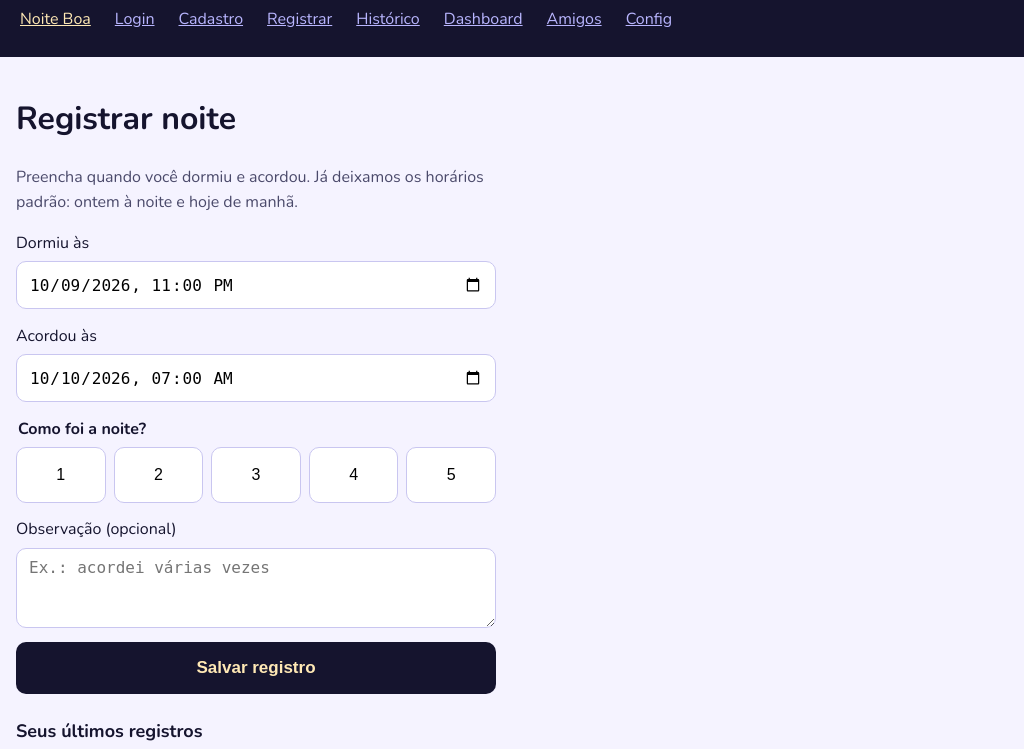
Test: tela de Registrar sono › salva o registro e mostra nos últimos registros
Replace the text in the field labelled "Dormiu às" with "2026-10-07T23:00": [256, 286] box 16,262 -> 496,310
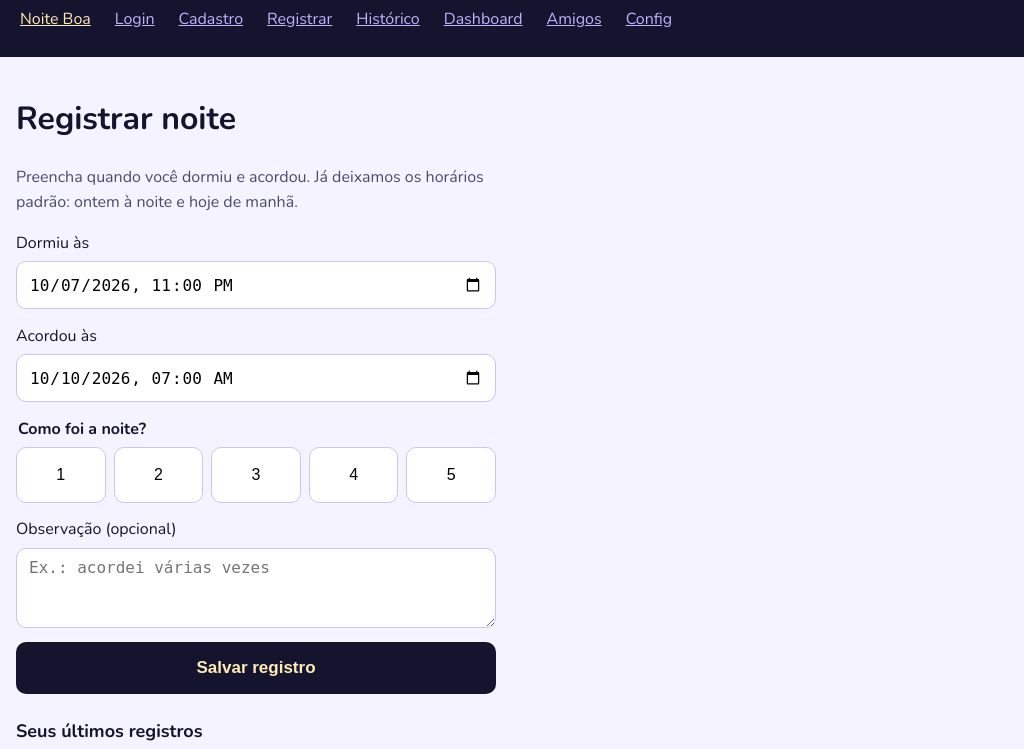
Replace the text in the field labelled "Acordou às" with "2026-10-08T07:00": [256, 378] box 16,354 -> 496,402
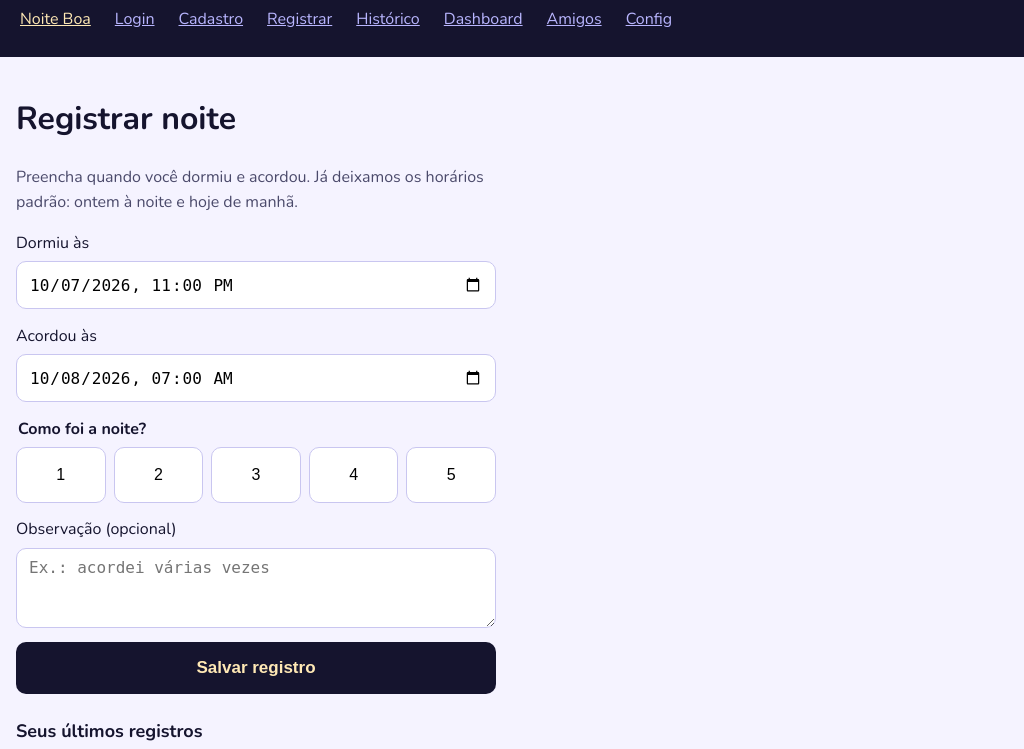
Click the button titled "4 Boa": [354, 475] box 309,447 -> 398,503
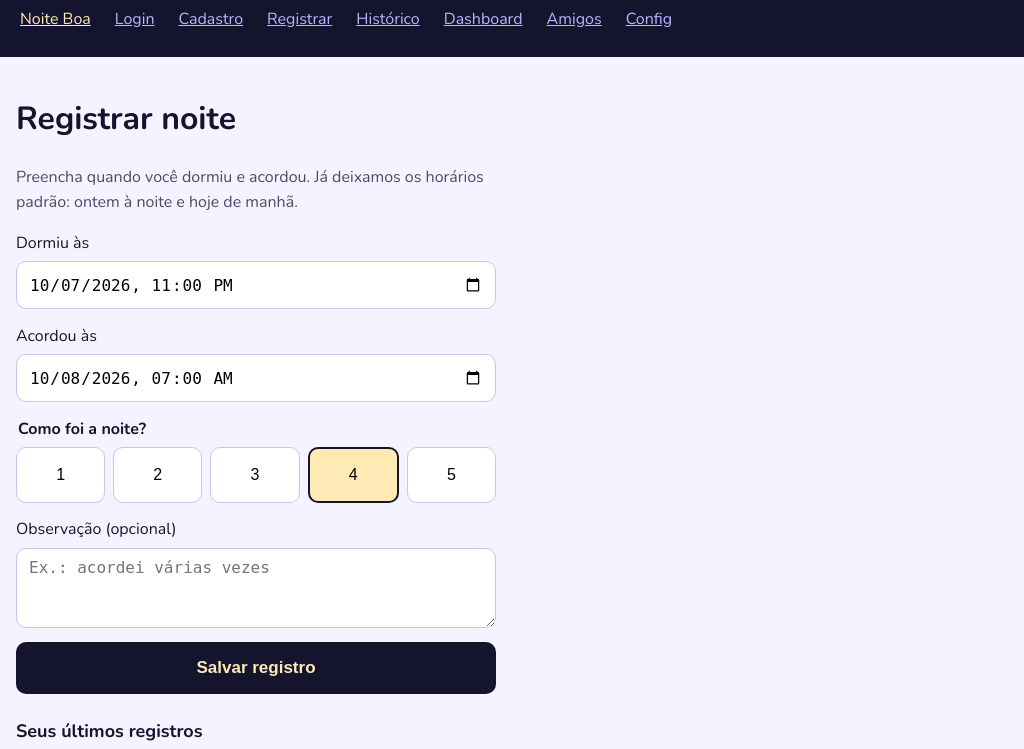
In the text box labelled "Observação (opcional)": [256, 588] box 16,548 -> 496,628, type "dormi bem"
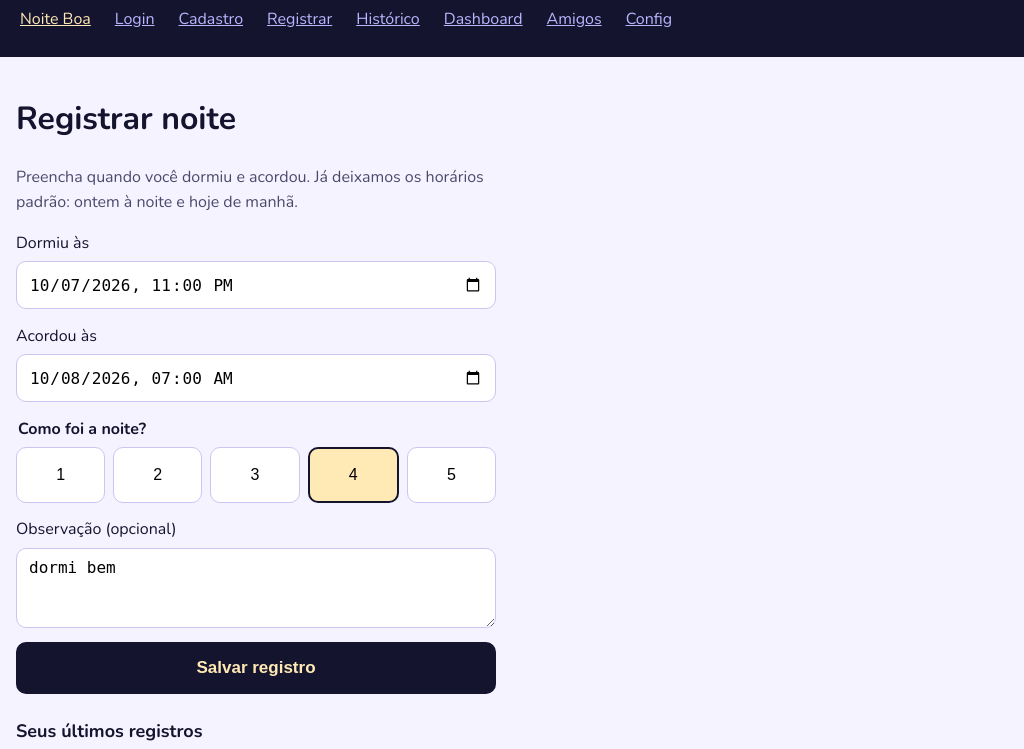
Click the button "Salvar registro": [256, 668] box 16,642 -> 496,694
(page scrolled)
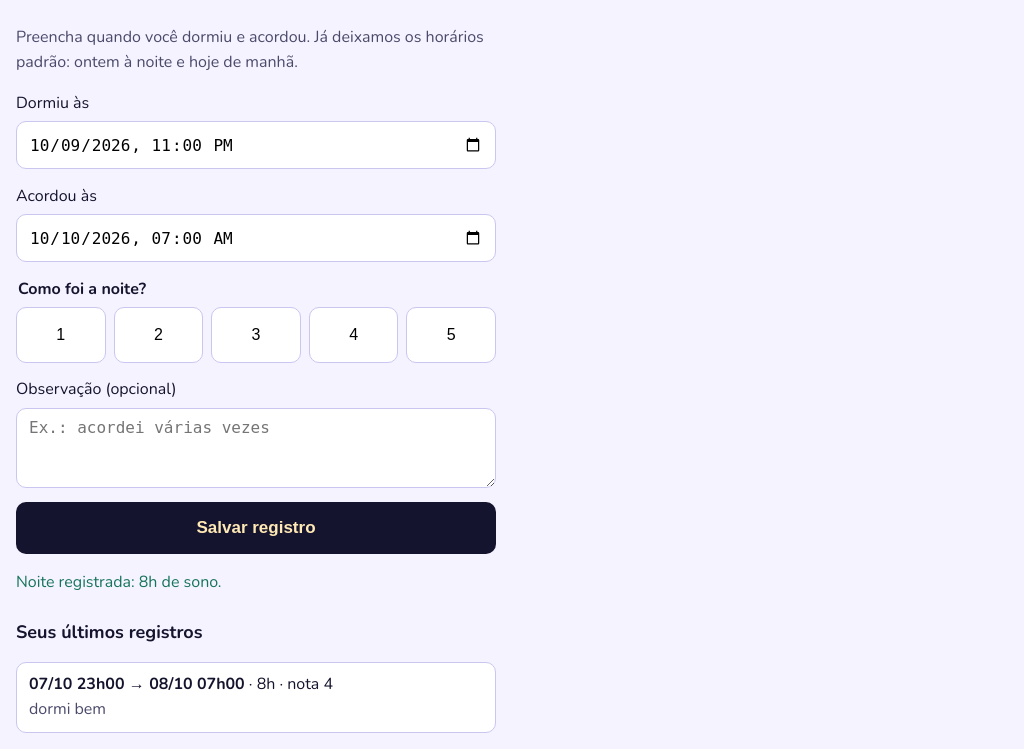
Expected: the text "dormi bem" is shown, 29,698 -> 106,720
Expected: the message reads "Noite registrada: 8h de sono.", 16,571 -> 221,593
